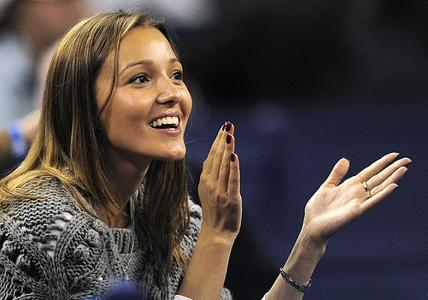person: (4, 9, 414, 300)
